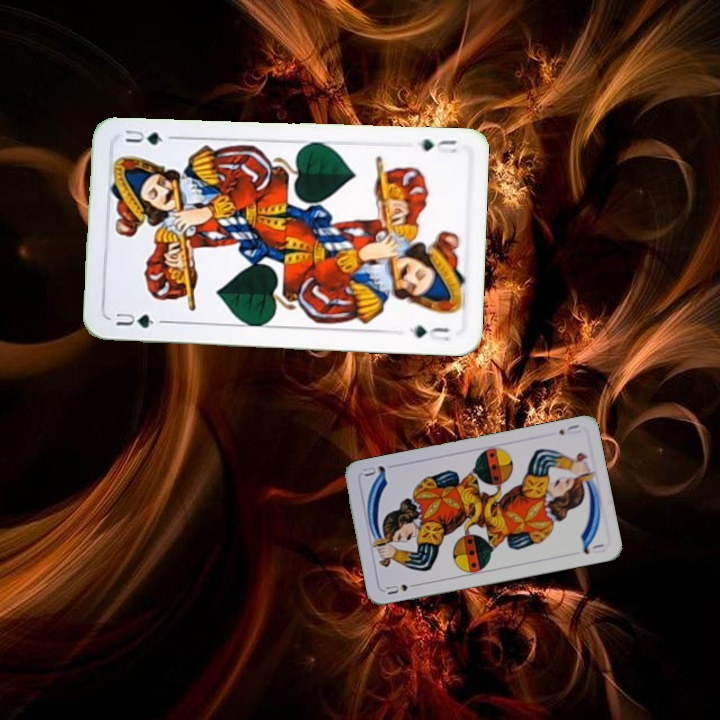GU: (413, 134, 461, 156), (112, 309, 157, 331)
SU: (382, 579, 421, 597), (554, 420, 583, 438)
